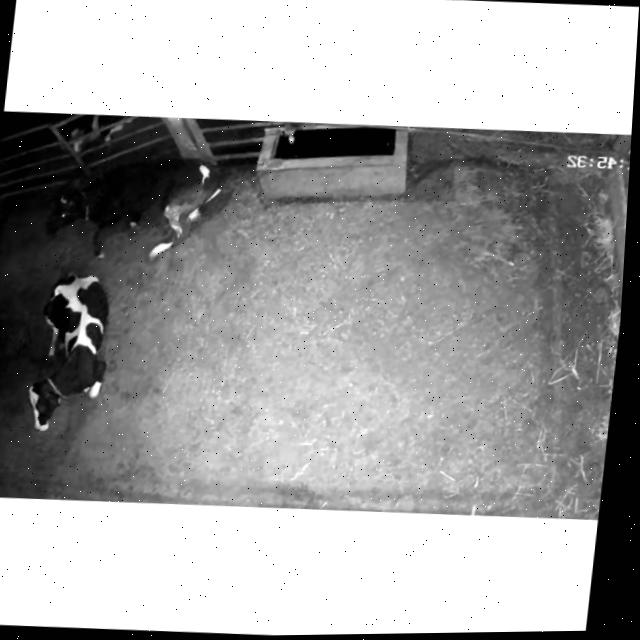lay: (35, 139, 233, 266), (9, 254, 132, 445)
